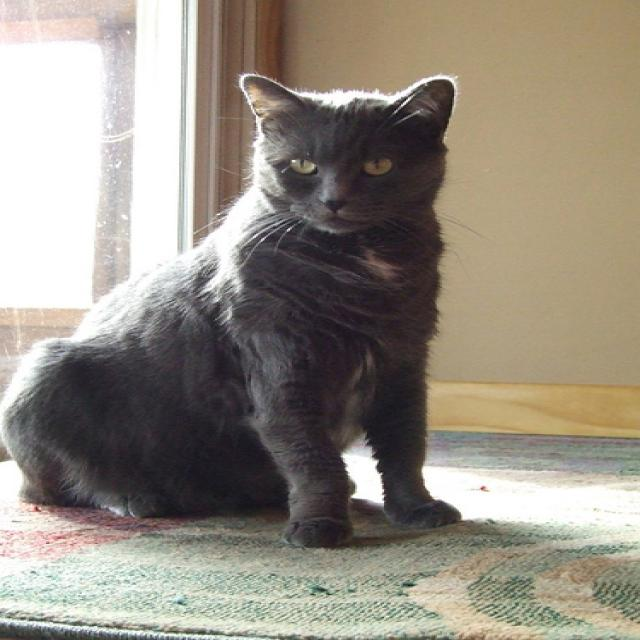left eye: (358, 154, 394, 176)
